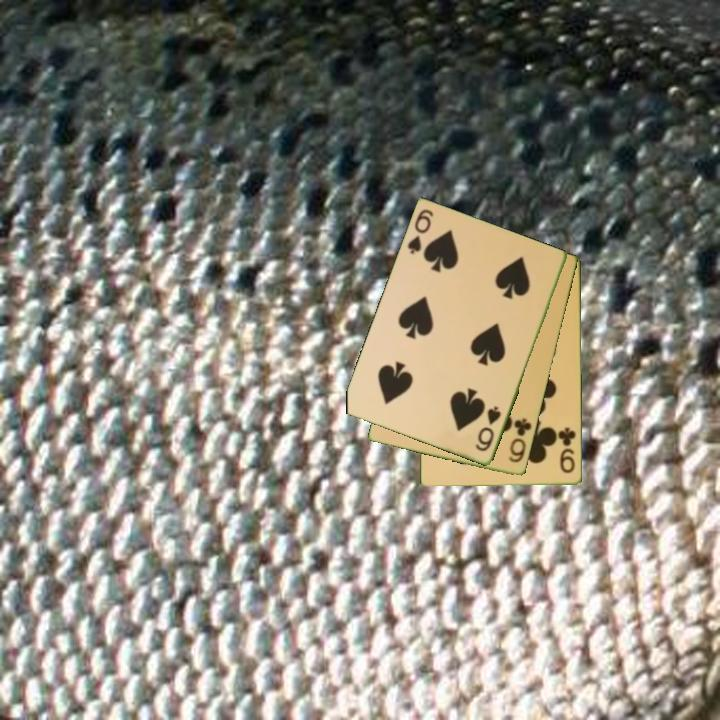6c: (505, 415, 535, 466)
6s: (472, 403, 504, 455), (404, 206, 436, 258)
9c: (555, 424, 579, 476)
